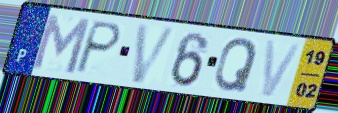6: (169, 30, 211, 88)
M: (30, 12, 93, 77)
P: (72, 18, 124, 76)
Q: (212, 36, 260, 94)
V: (129, 22, 180, 86), (260, 38, 305, 99)
